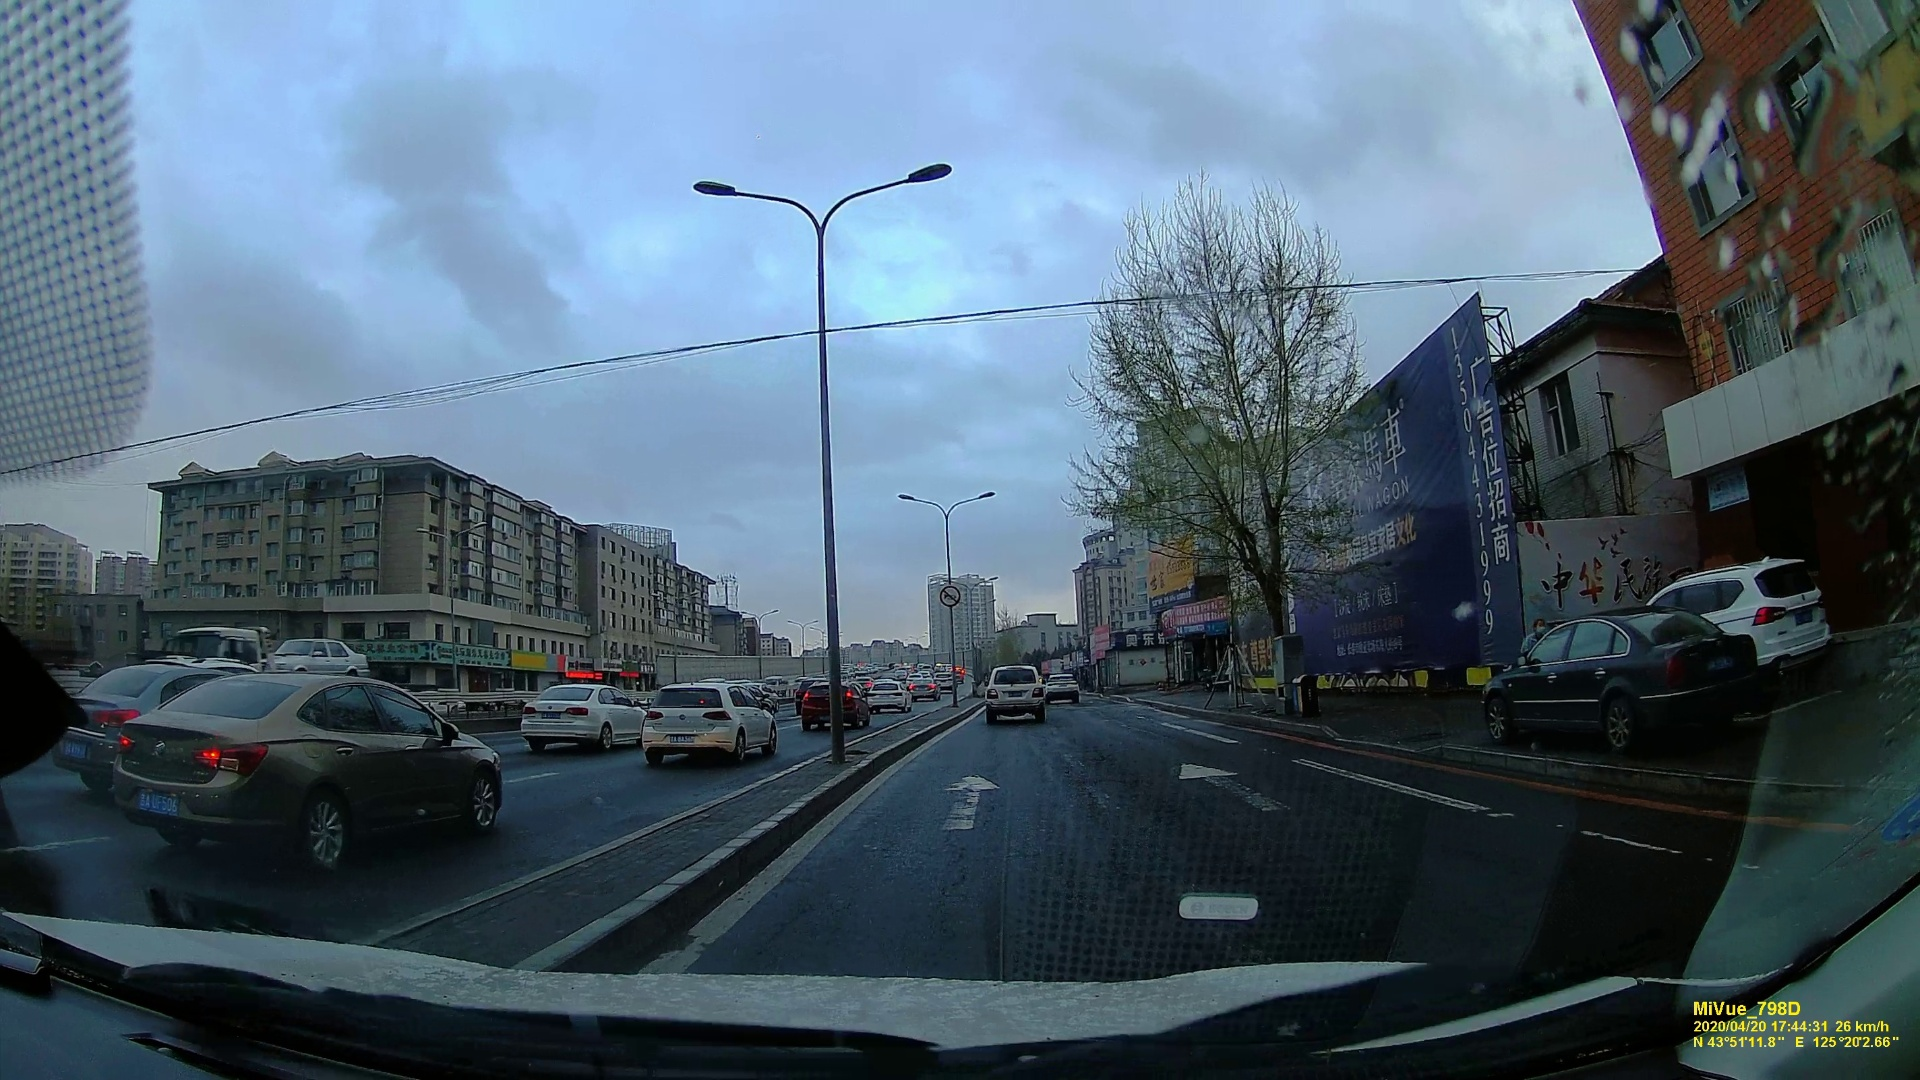traffic_sign: (1634, 0, 1714, 95)
vehicle: (84, 641, 512, 880), (1494, 607, 1764, 754), (1644, 553, 1834, 680), (640, 680, 781, 766), (520, 679, 644, 752), (982, 663, 1054, 721), (258, 636, 361, 675), (795, 680, 870, 731), (910, 676, 939, 698)
